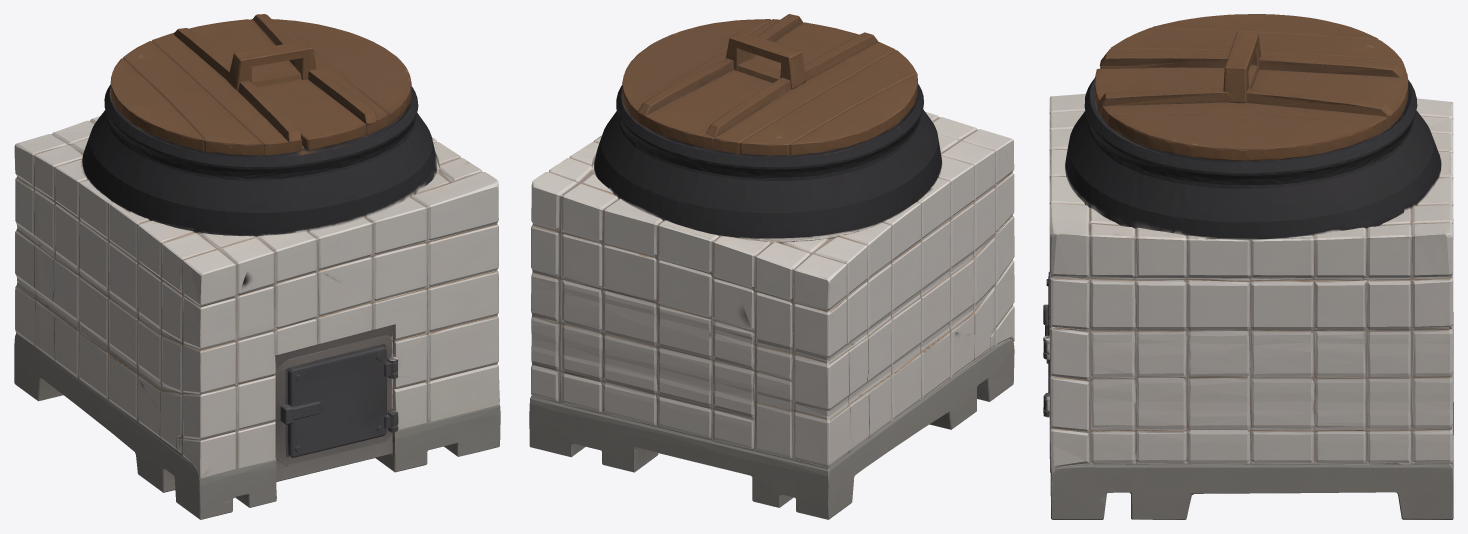
Rendered from gamasot_stove.glb.
3 views of the same model, side by side, from view 1: azimuth 30°, elevation 25°; view 2: azimuth 150°, elevation 25°; view 3: azimuth 270°, elevation 25° (orthographic). The views are drawn at different scales.
Visible parts, largest first — view 1: gamasot_stove; view 2: gamasot_stove; view 3: gamasot_stove.
Boxes of the visible parts, <box> form: gamasot_stove: <box>14,14,500,519</box>; gamasot_stove: <box>529,14,1014,519</box>; gamasot_stove: <box>1043,14,1453,519</box>.
Bounding box in the file's own units: 0.8182 × 0.95 × 0.891.
1 material, 1 textured.
